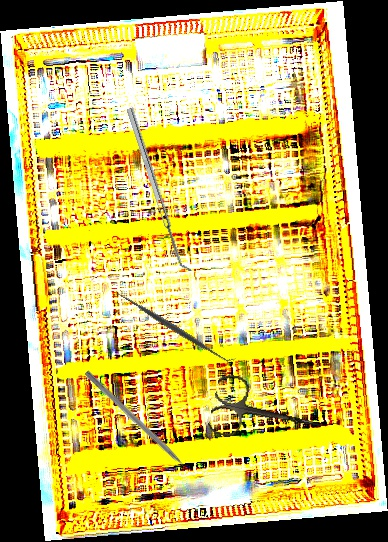Iris Scissors: (206, 372, 329, 457)
Pusher: (82, 369, 200, 483)
Spatula Surgical: (126, 105, 193, 275), (111, 284, 237, 371)
